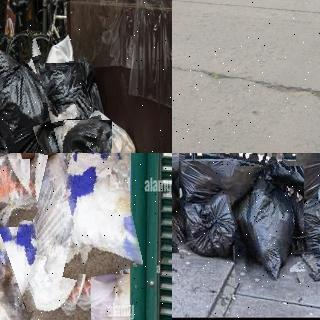Garbage: (7, 153, 100, 320), (228, 163, 311, 287), (64, 153, 136, 276), (0, 31, 64, 153), (172, 184, 250, 260), (0, 213, 37, 320), (292, 155, 320, 282), (42, 61, 90, 121), (0, 155, 34, 230), (58, 117, 116, 153), (18, 126, 94, 153)
